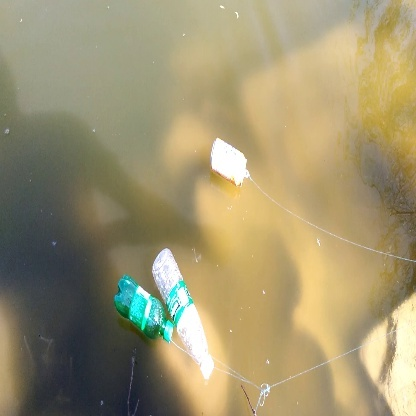bottle: (151, 245, 217, 372), (112, 275, 175, 348), (201, 134, 255, 189)
